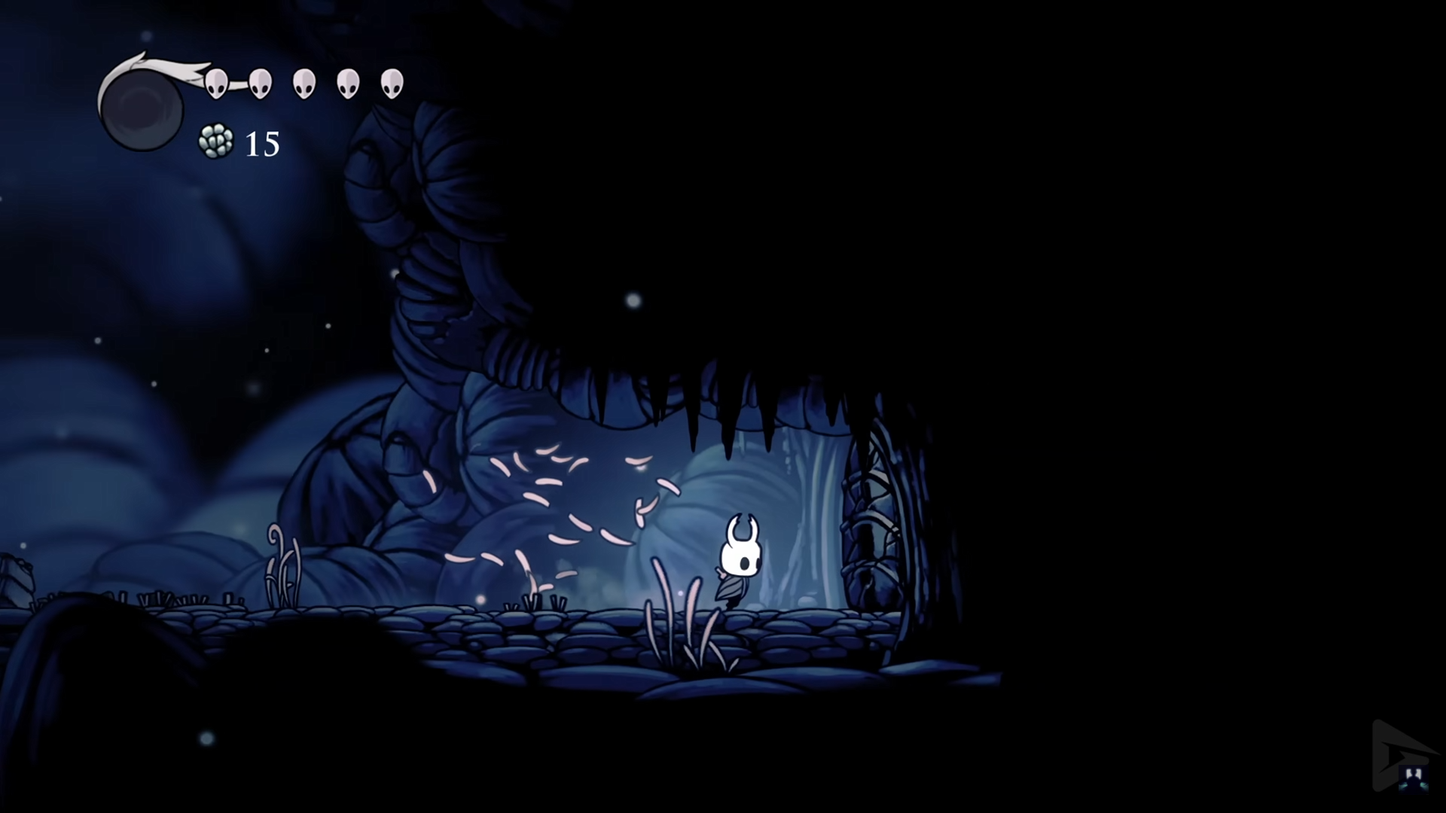HK: (712, 508, 768, 612)
